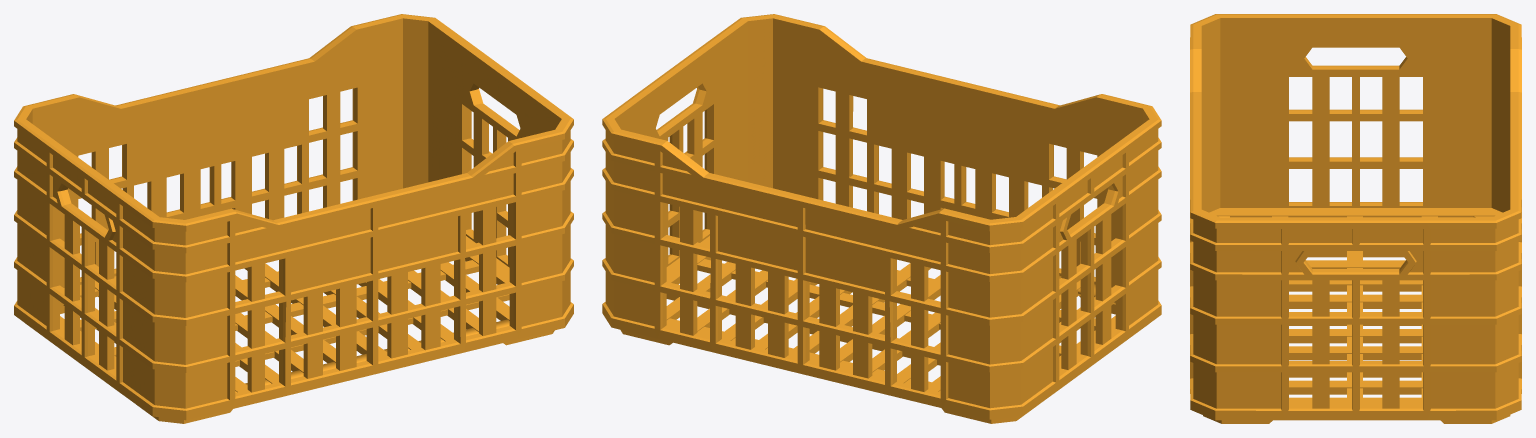
Rendered from SM_Crate_Plastic_Medium.fbx.
3 renders of one model, left to right at view 1: azimuth 30°, elevation 25°; view 2: azimuth 150°, elevation 25°; view 3: azimuth 270°, elevation 25°, orthographic.
Visible parts, largest first — view 1: crate-plastic-medium; view 2: crate-plastic-medium; view 3: crate-plastic-medium.
Boxes of the visible parts, x1,y1,x2,y2 form: crate-plastic-medium: (14,14,573,423); crate-plastic-medium: (602,14,1161,423); crate-plastic-medium: (1190,14,1521,423).
Size of the model in its own units: 0.6083 by 0.2817 by 0.4083.
